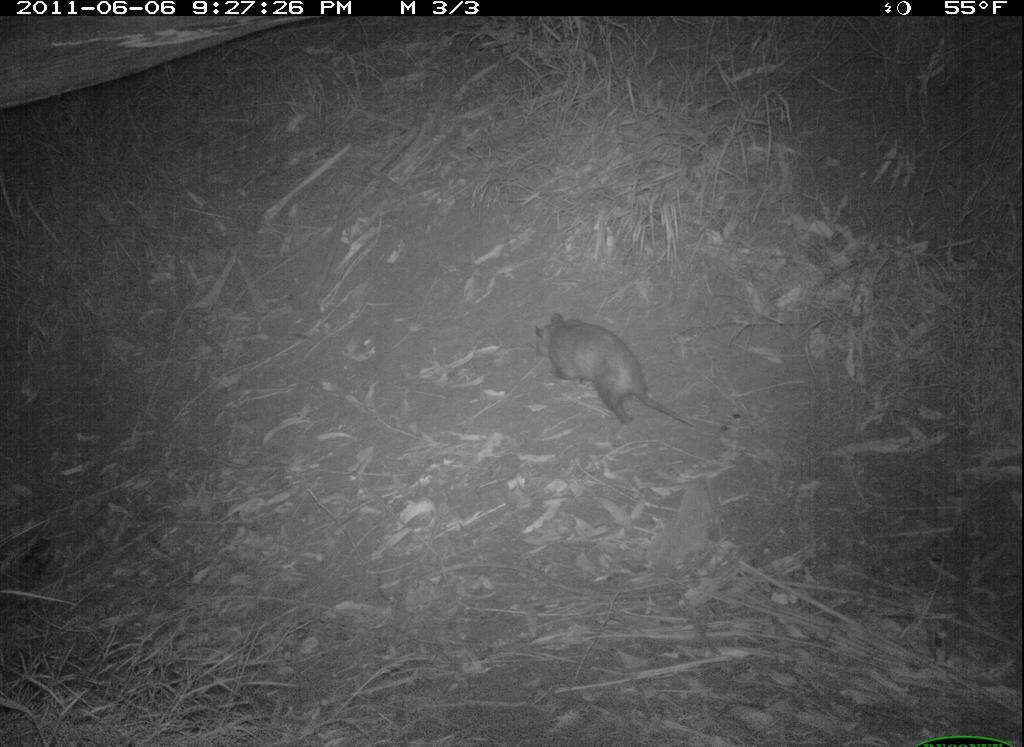opossum: (530, 303, 706, 446)
